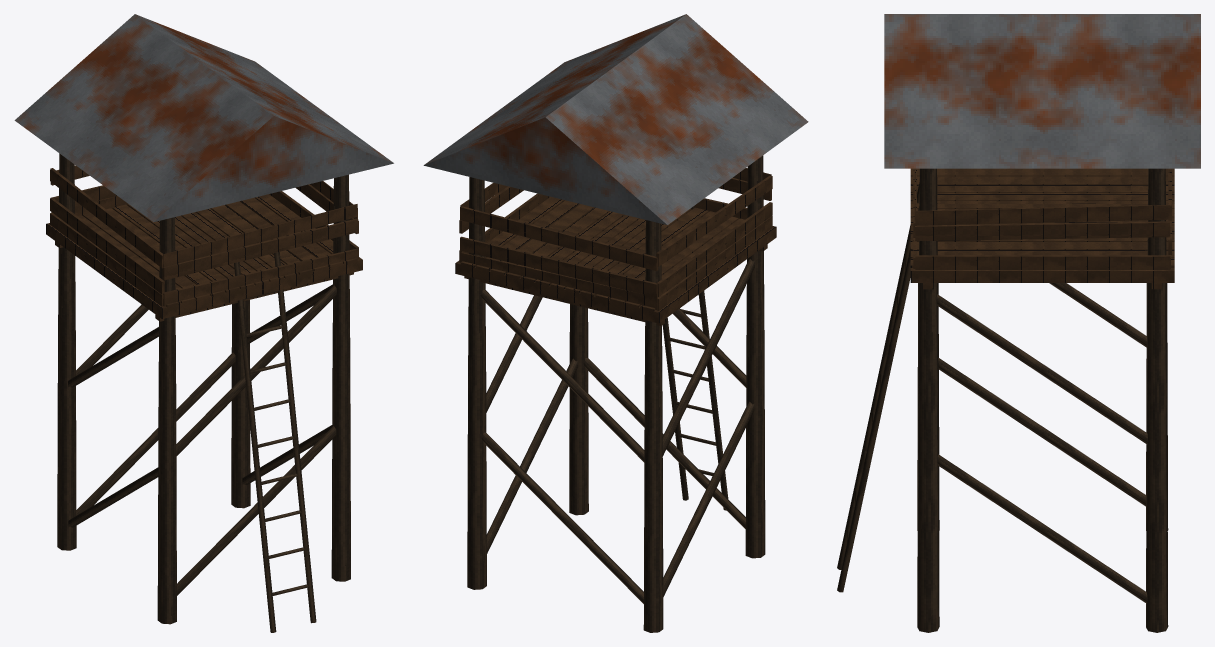
File: ext_watchtower.glb
3 renders of one model, left to right at view 1: azimuth 30°, elevation 25°; view 2: azimuth 150°, elevation 25°; view 3: azimuth 270°, elevation 25°, orthographic. The views are drawn at different scales.
Parts seen in each view (by area): view 1: detail, frame-col; view 2: detail, frame-col; view 3: detail, frame-col.
Boxes of the visible parts, x1,y1,x2,y2 form: detail: [14, 14, 393, 632]; frame-col: [46, 153, 362, 624]; detail: [423, 14, 808, 603]; frame-col: [455, 155, 776, 632]; detail: [837, 14, 1200, 603]; frame-col: [910, 168, 1174, 632].
Size of what is drawn, in the model's own units: 3.6 by 7.11 by 4.14.
Materials: 4 (4 with a texture image).
